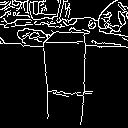cube: (40, 27, 93, 95)
